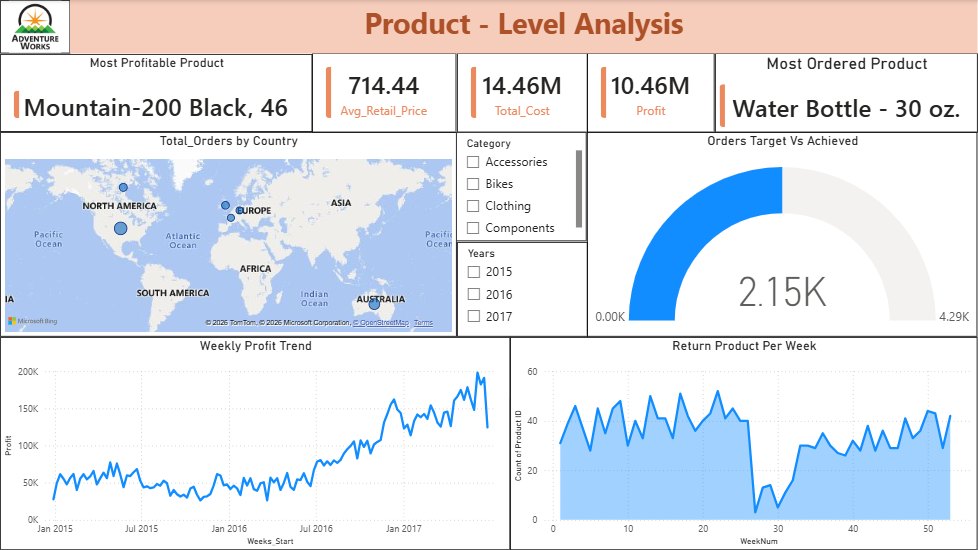

Layout of this report page (visuals, bound fields, positions):
{"tool":"powerbi","page":{"name":"Product analysis","canvas":[1280,720],"ordinal":1},"visuals":[{"type":"image","box":[0,0,92.2,70.2],"z":0},{"type":"cardVisual","title":"Most Ordered Product","fields":{"Data":["Min(Products.ProductName)"]},"box":[936,69.1,344.2,103.7],"z":1000},{"type":"cardVisual","fields":{"Data":["Sales.Profit"]},"box":[769,69.1,167,103.7],"z":2000},{"type":"cardVisual","fields":{"Data":["Sales.Total_Cost"]},"box":[597.6,69.1,171.4,103.7],"z":3000},{"type":"cardVisual","fields":{"Data":["Products.Avg_Retail_Price"]},"box":[409,69.1,188.6,103.7],"z":4000},{"type":"cardVisual","title":"Most Profitable Product","fields":{"Data":["Min(Products.ProductName)"]},"box":[0,70.6,409,102.2],"z":5000},{"type":"map","fields":{"Category":["Territories.Country"],"Size":["Sales.Total_Orders"]},"box":[0,172.8,597.6,267.8],"z":6000},{"type":"lineChart","title":"Weekly Profit Trend","fields":{"Category":["Calendar.Weeks_Start.Variation.Date Hierarchy.Year"],"Y":["Sales.Profit"]},"box":[0,440.6,668.2,279.4],"z":7000},{"type":"areaChart","title":"Return Product Per Week","fields":{"Y":["CountNonNull(Returns.Product ID)"],"Category":["Returns.WeekNum"]},"box":[668.2,440.6,612,279.4],"z":8000},{"type":"gauge","title":"Orders Target Vs Achieved","fields":{"Y":["Sales.Total_Orders"],"TargetValue":["Sales.Target_Orders"]},"box":[769,172.8,511.2,267.8],"z":9000},{"type":"slicer","fields":{"Values":["Categories.CategoryName"]},"box":[597.1,172.7,171.2,143.4],"z":10000},{"type":"slicer","fields":{"Values":["Sales.Years"]},"box":[597.6,316.8,171.4,123.8],"z":11000},{"type":"textbox","box":[92.2,0,1188.3,70.2],"z":12000}]}

Visuals, with their boxes in screenshot pixels (x1, y1, x2, y2), scaled from the page's 1280x720 canvas onto the 978x550 screenshot:
image: 0:0:70:54
"Most Ordered Product" cardVisual: 715:53:977:132
cardVisual - Sales.Profit: 588:53:715:132
cardVisual - Sales.Total_Cost: 457:53:588:132
cardVisual - Products.Avg_Retail_Price: 313:53:457:132
"Most Profitable Product" cardVisual: 0:54:313:132
map - Territories.Country x Sales.Total_Orders: 0:132:457:337
"Weekly Profit Trend" lineChart: 0:337:511:549
"Return Product Per Week" areaChart: 511:337:977:549
"Orders Target Vs Achieved" gauge: 588:132:977:337
slicer - Categories.CategoryName: 456:132:587:241
slicer - Sales.Years: 457:242:588:337
textbox: 70:0:977:54
